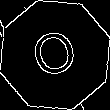O_S: (26, 24, 84, 86)
